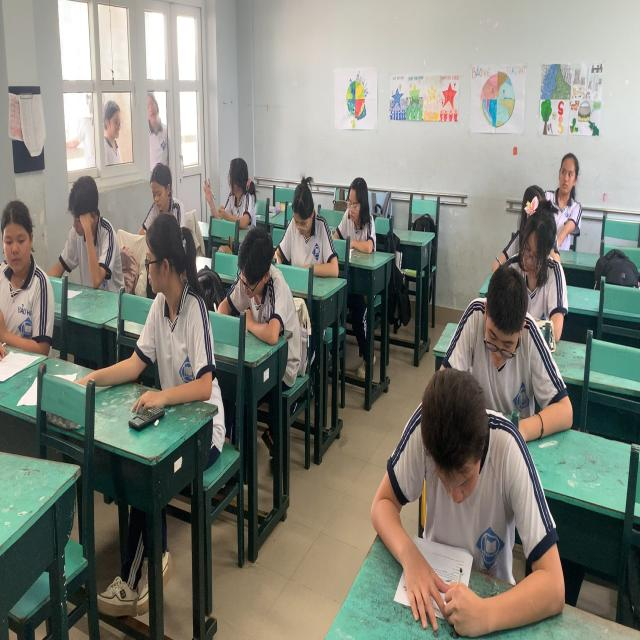cheating: (120, 210, 230, 448), (0, 176, 64, 379)
not_cheating: (372, 380, 579, 548), (441, 244, 562, 447), (212, 204, 311, 404), (38, 133, 130, 315), (489, 173, 565, 350), (248, 146, 334, 299), (324, 142, 409, 290), (130, 127, 216, 270), (212, 131, 294, 271), (535, 90, 576, 269)
